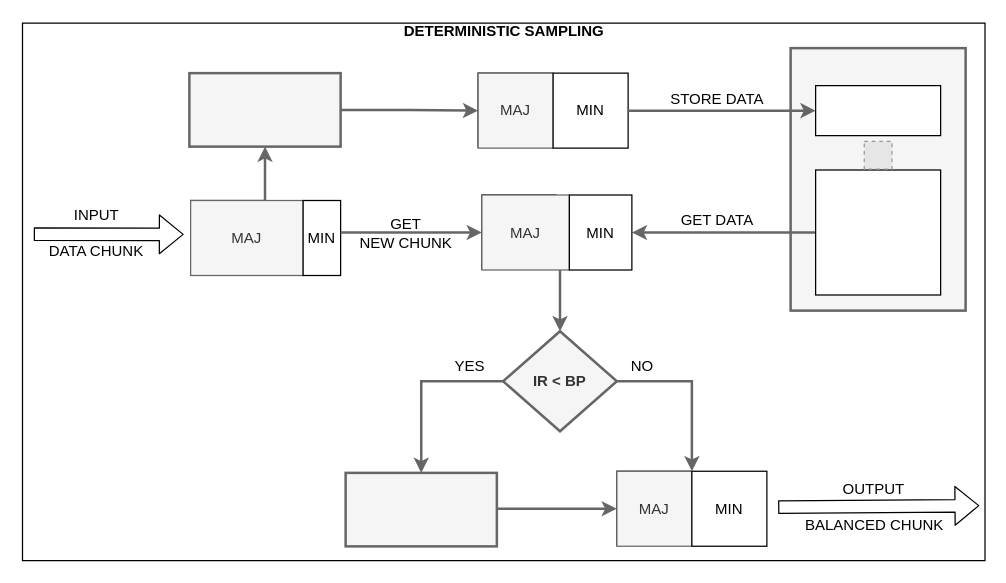
The diagram is 1006 pixels wide and 583 high, and some of its shapes have lost their labels. Grey dashed boxes stand in for pictures. Here are the shapes that lost their labels. From the top down, the box of each, then its label:
(188, 71, 341, 147): UNDERSAMPLING
(814, 84, 941, 136): NEW STORED DATA
(789, 46, 966, 311): DATA STORAGE
(814, 169, 941, 295): OLD STORED DATA
(344, 471, 498, 547): OVERSAMPLING
